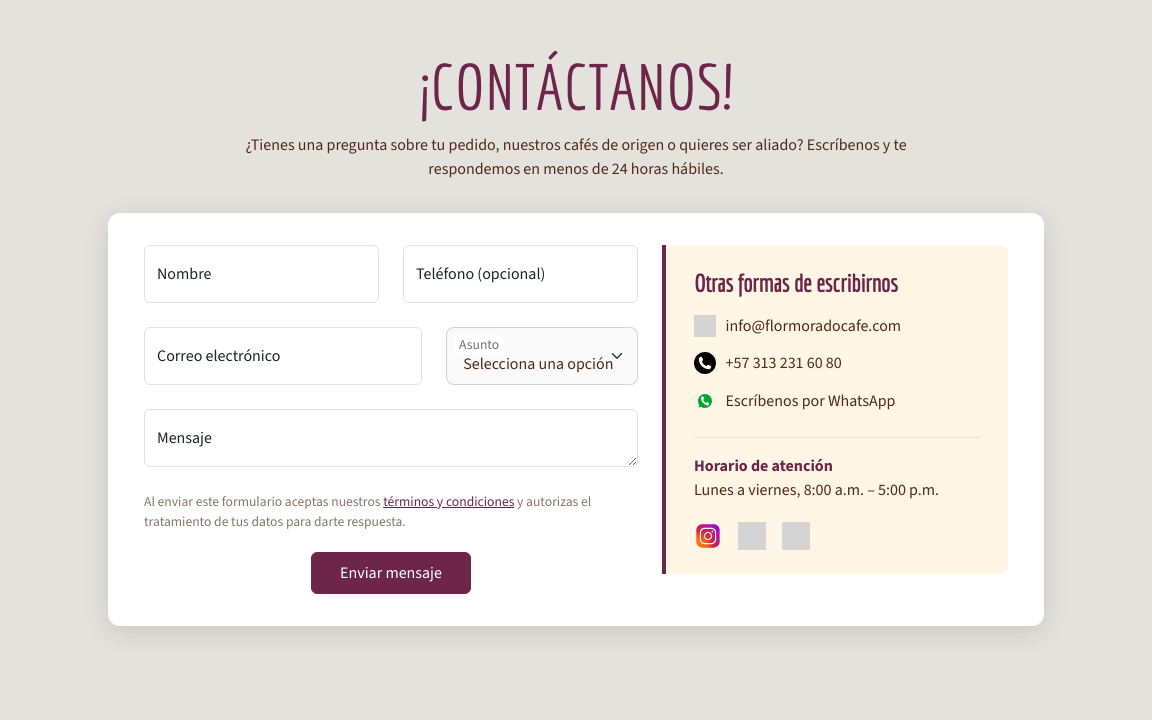
Scenario: Contact › envía el mensaje y muestra la confirmación
The width and height of the screenshot is (1152, 720).
Type "María" into the field labelled "Nombre" at (262, 274), box 144,245 -> 379,303
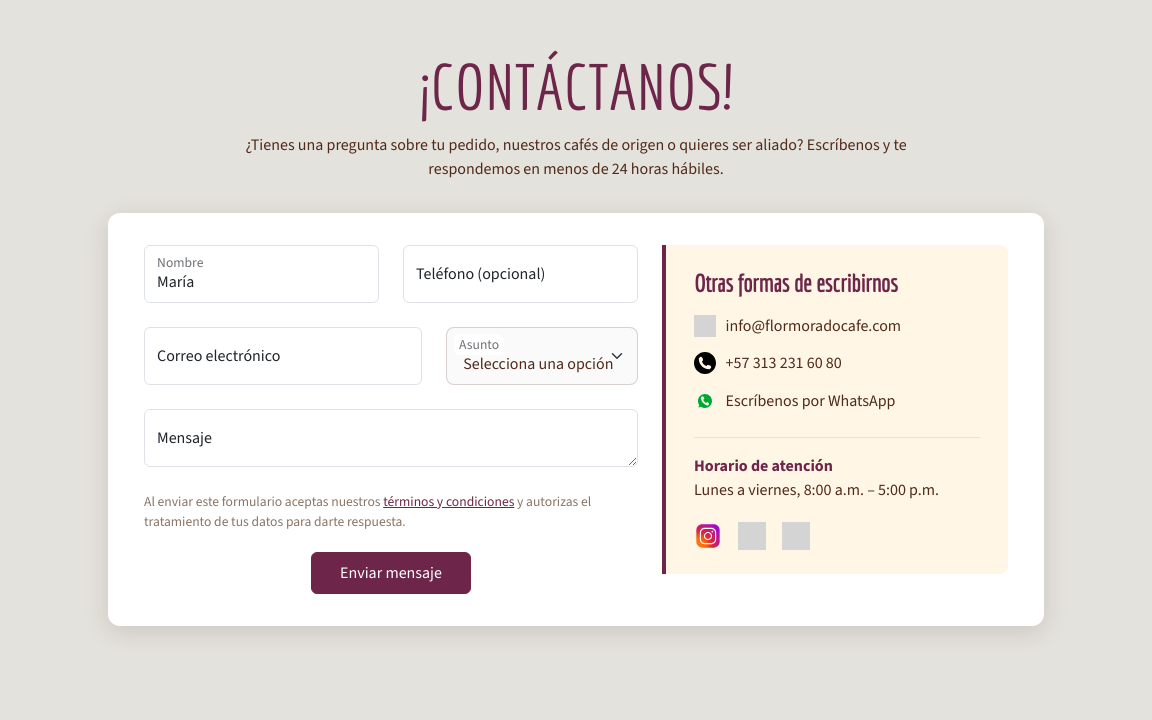
Type "maria@example.com" into the field labelled "Correo electrónico" at (283, 356), box 144,327 -> 422,385
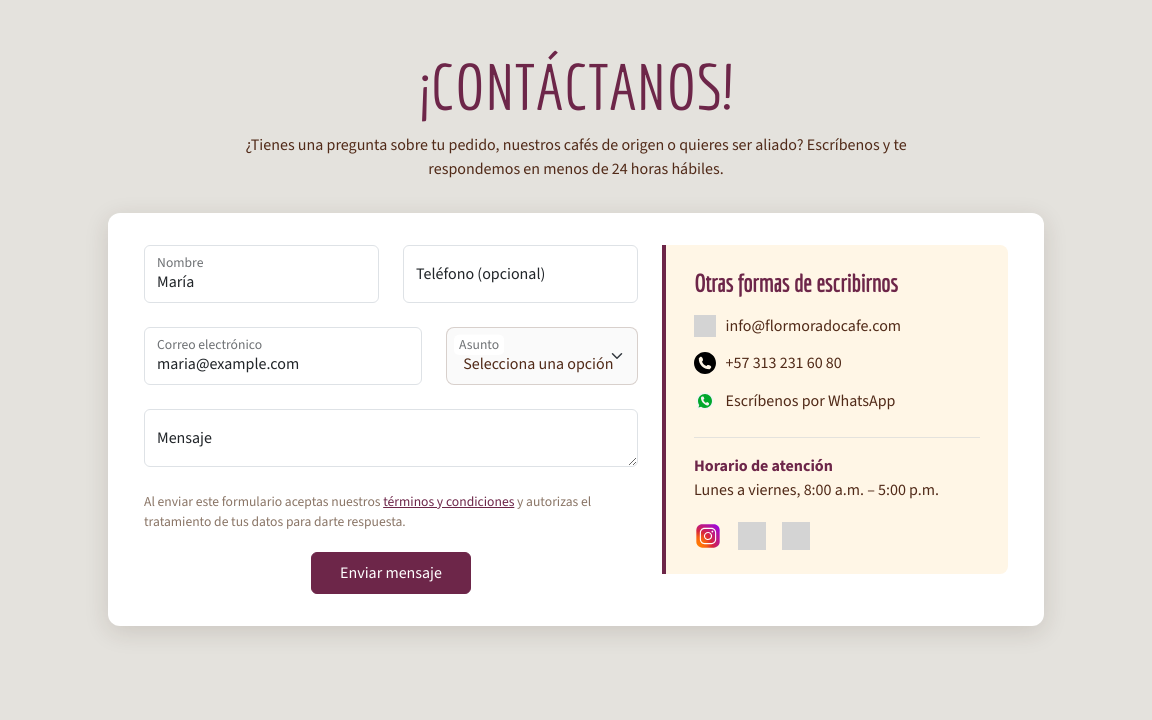
Select "Preguntas sobre un producto" in the dropdown labelled "Asunto" at (542, 356), box 446,327 -> 638,385
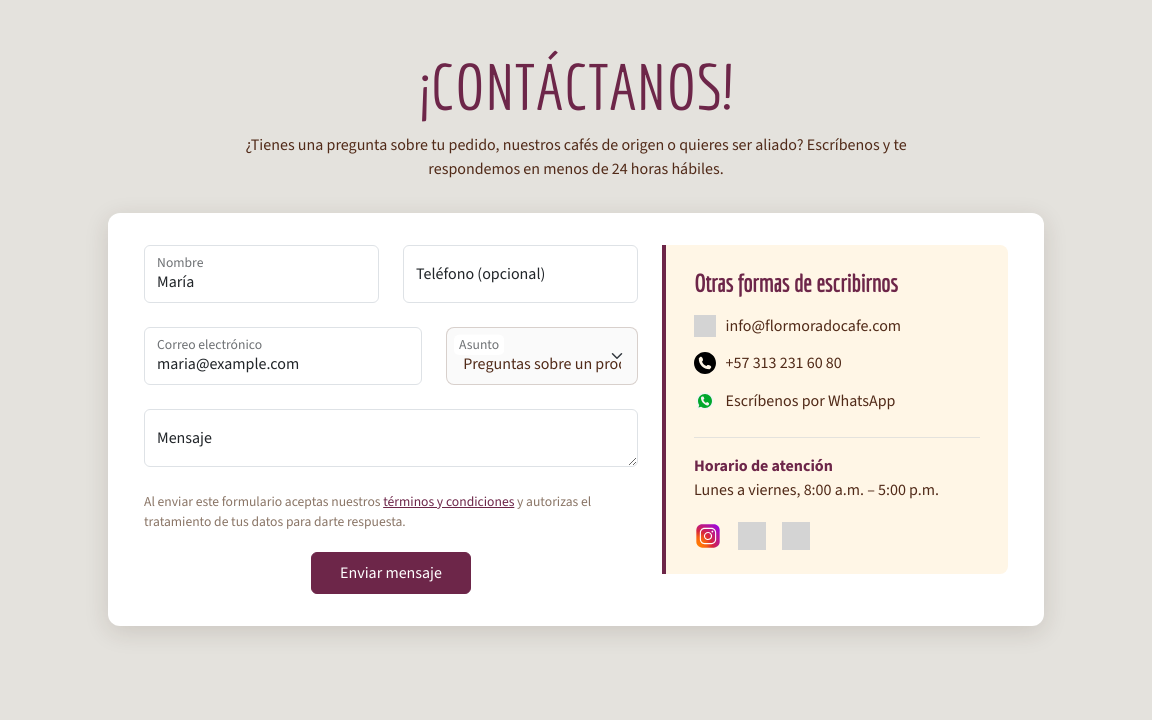
Type "¿Este café es apto para prensa francesa?" into the text box labelled "Mensaje" at (391, 438), box 144,409 -> 638,467
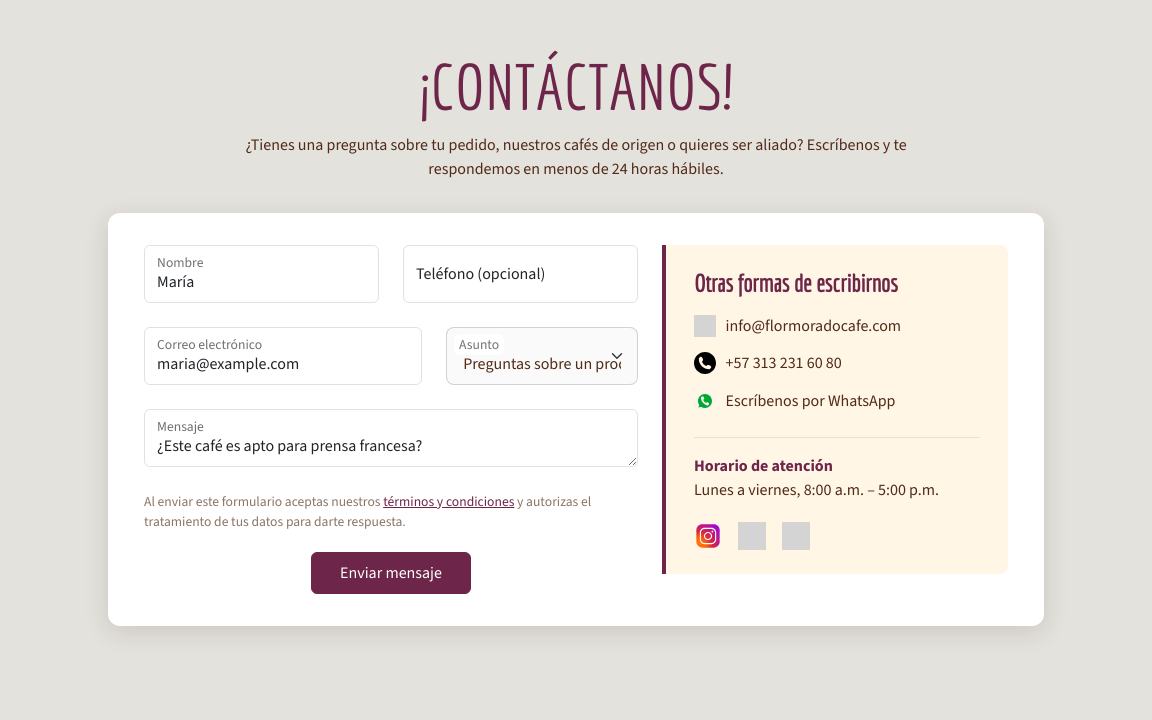
Click the button "Enviar mensaje" at (391, 573), box 311,552 -> 471,594
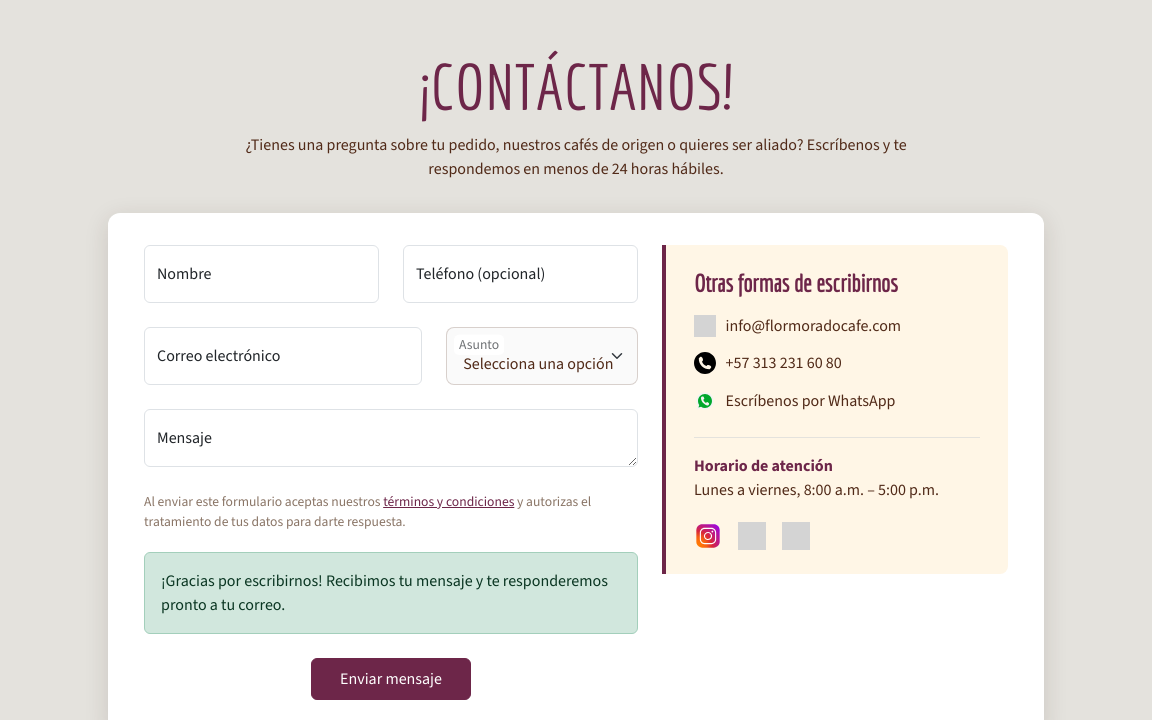
Now the text "Recibimos tu mensaje" is shown, box 161,570 -> 608,615
